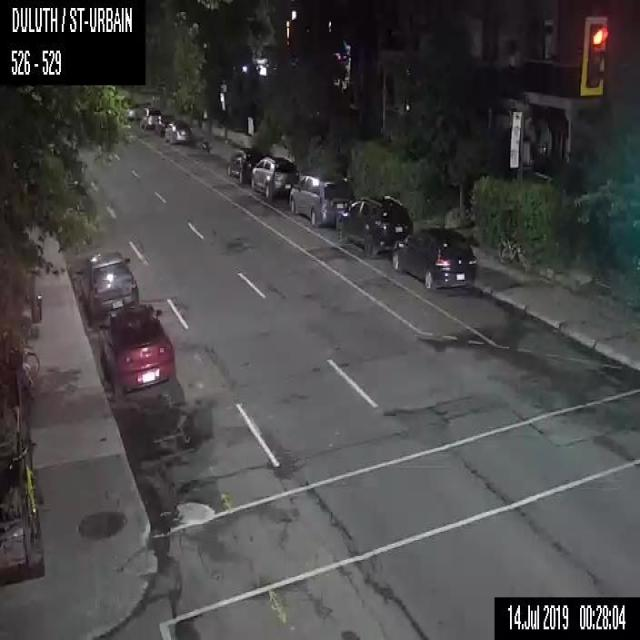vehicle: (98, 303, 174, 391), (392, 229, 478, 288), (75, 250, 138, 326), (338, 195, 414, 257), (289, 171, 356, 228), (251, 157, 298, 200), (228, 146, 266, 184), (164, 120, 191, 144), (140, 105, 161, 128), (154, 113, 174, 136)
